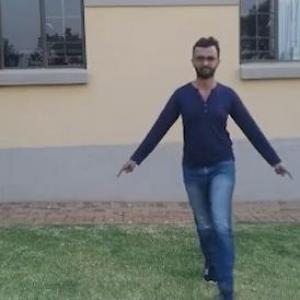land: (146, 57, 269, 244)
